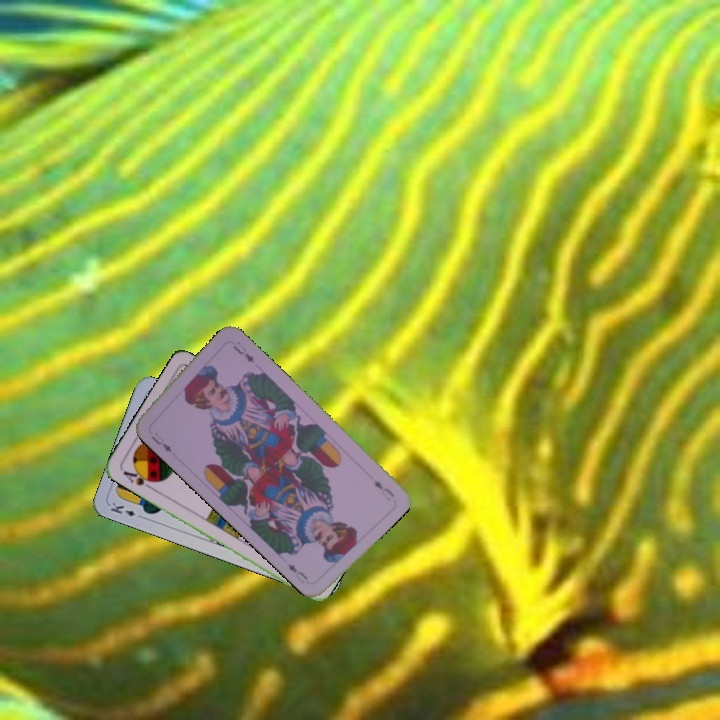EK: (106, 498, 146, 521)
EU: (147, 428, 174, 455), (369, 476, 397, 500)
SA: (119, 466, 158, 492)
